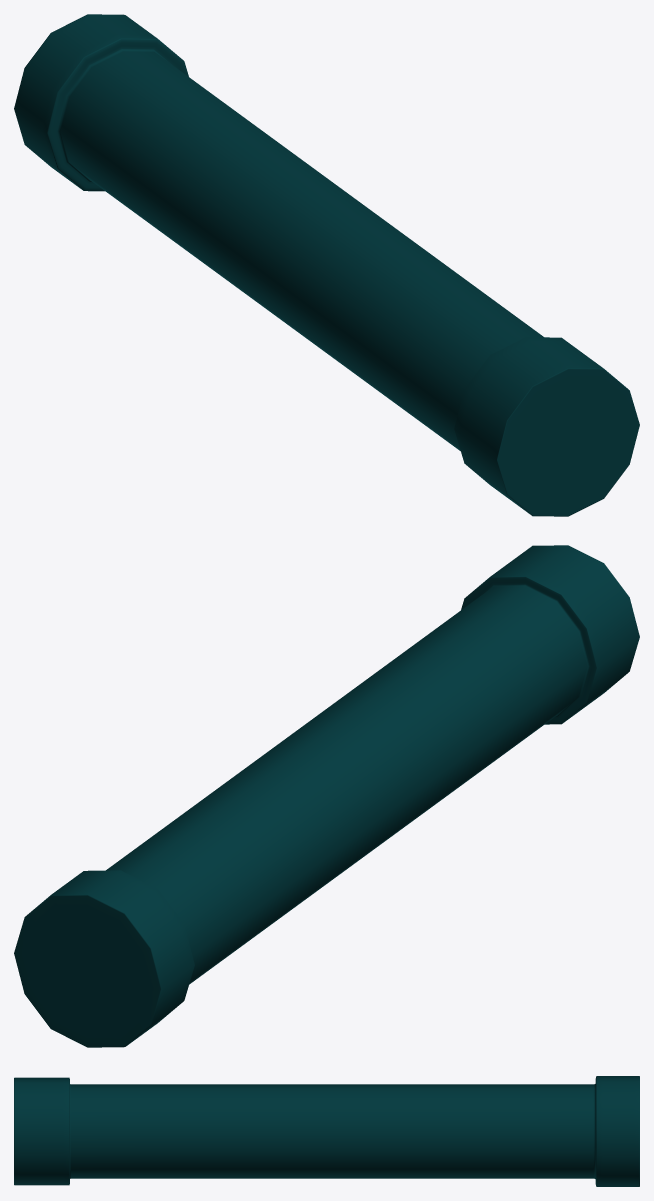
File: chainSeg2.fbx
The picture shows the model from 3 angles, top to bottom: view 1: azimuth 30°, elevation 25°; view 2: azimuth 150°, elevation 25°; view 3: azimuth 270°, elevation 25°; orthographic projection. The views are drawn at different scales.
Parts seen in each view (by area): view 1: pCylinder1; view 2: pCylinder1; view 3: pCylinder1.
Boxes of the visible parts, x1=… form: pCylinder1: x1=14, y1=14, x2=639, y2=516; pCylinder1: x1=14, y1=545, x2=639, y2=1047; pCylinder1: x1=14, y1=1076, x2=639, y2=1186.
Size of the model in its own units: 0.4293 by 0.4249 by 2.41.
